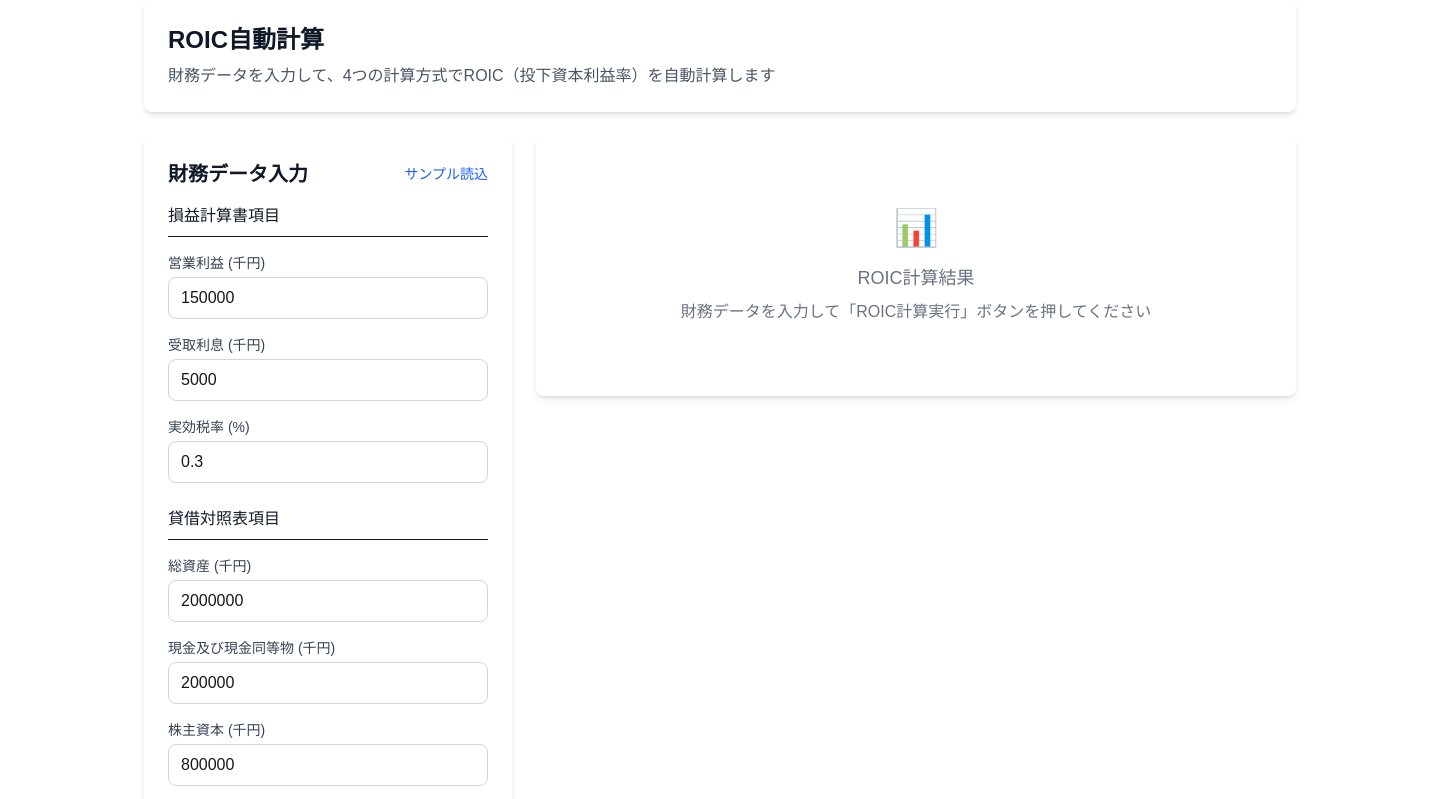
ROICCalculator コンポーネント › 計算方式選択機能 › 計算方式カードクリックで詳細表示が切り替わる
The width and height of the screenshot is (1440, 799).
What coordinates should you click on to do the following:
click the button "サンプル読込"
I would click on:
 (446, 174)
Its box is [404,164,488,184].
(page scrolled)
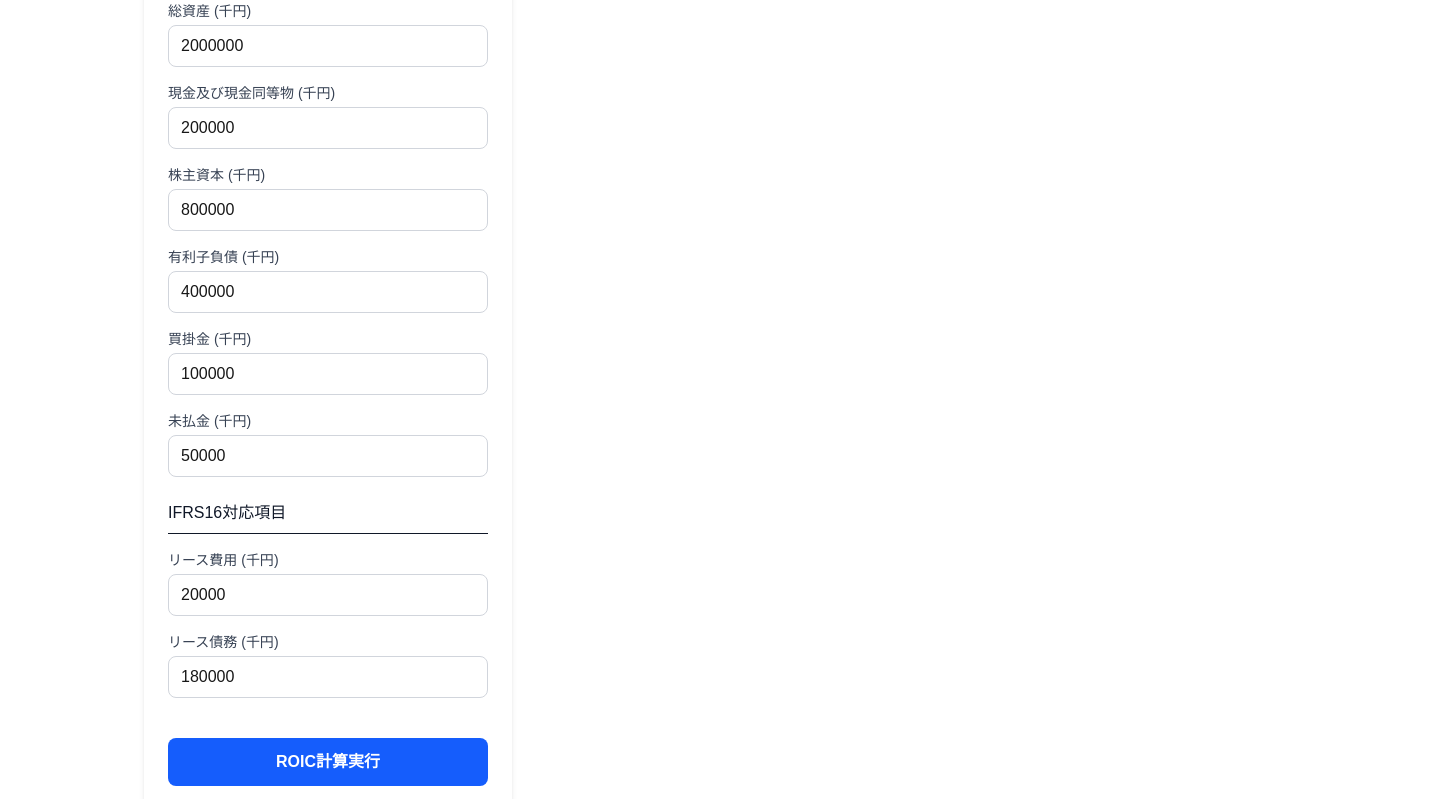
What coordinates should you click on to do the following:
click the button "ROIC計算実行"
I would click on:
 (328, 762)
Its box is [168,738,488,786].
(page scrolled)
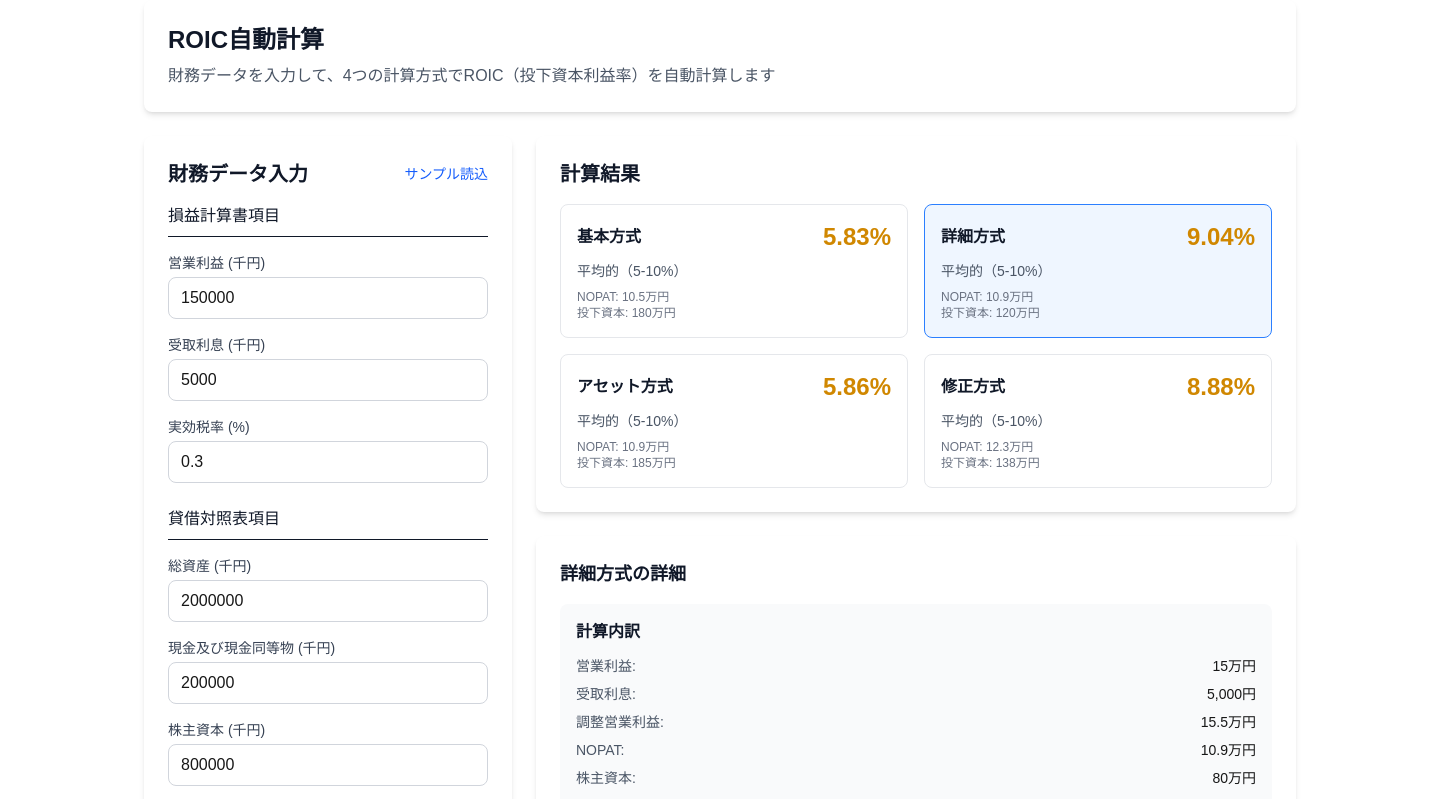
Expected: the heading "計算結果" is shown, [560,163,640,185]
What coordinates should you click on to do the following:
click the text "基本方式"
I would click on:
 (609, 236)
Its box is [577,221,891,253].
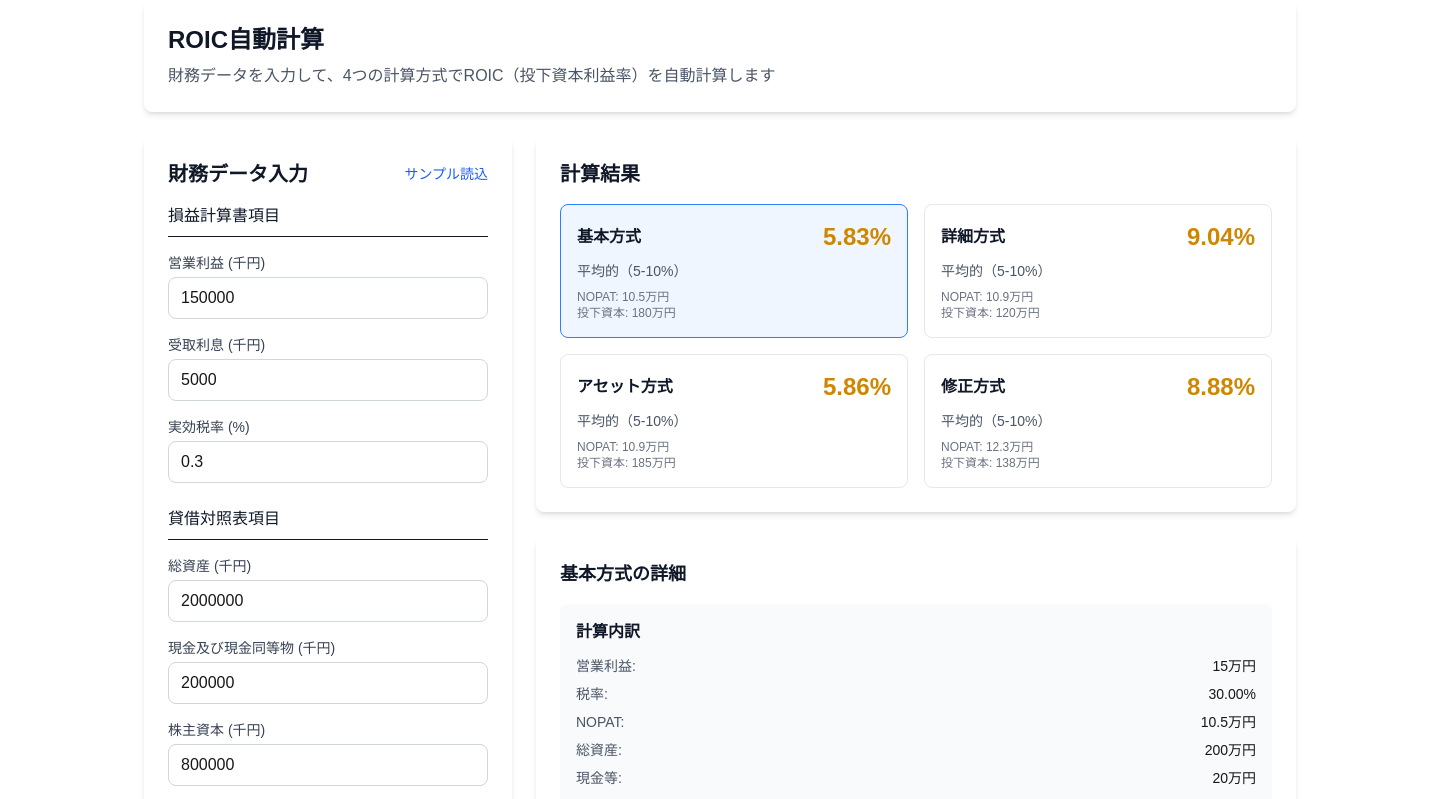
Result: the heading "基本方式の詳細" is shown at [560,564,686,584]
